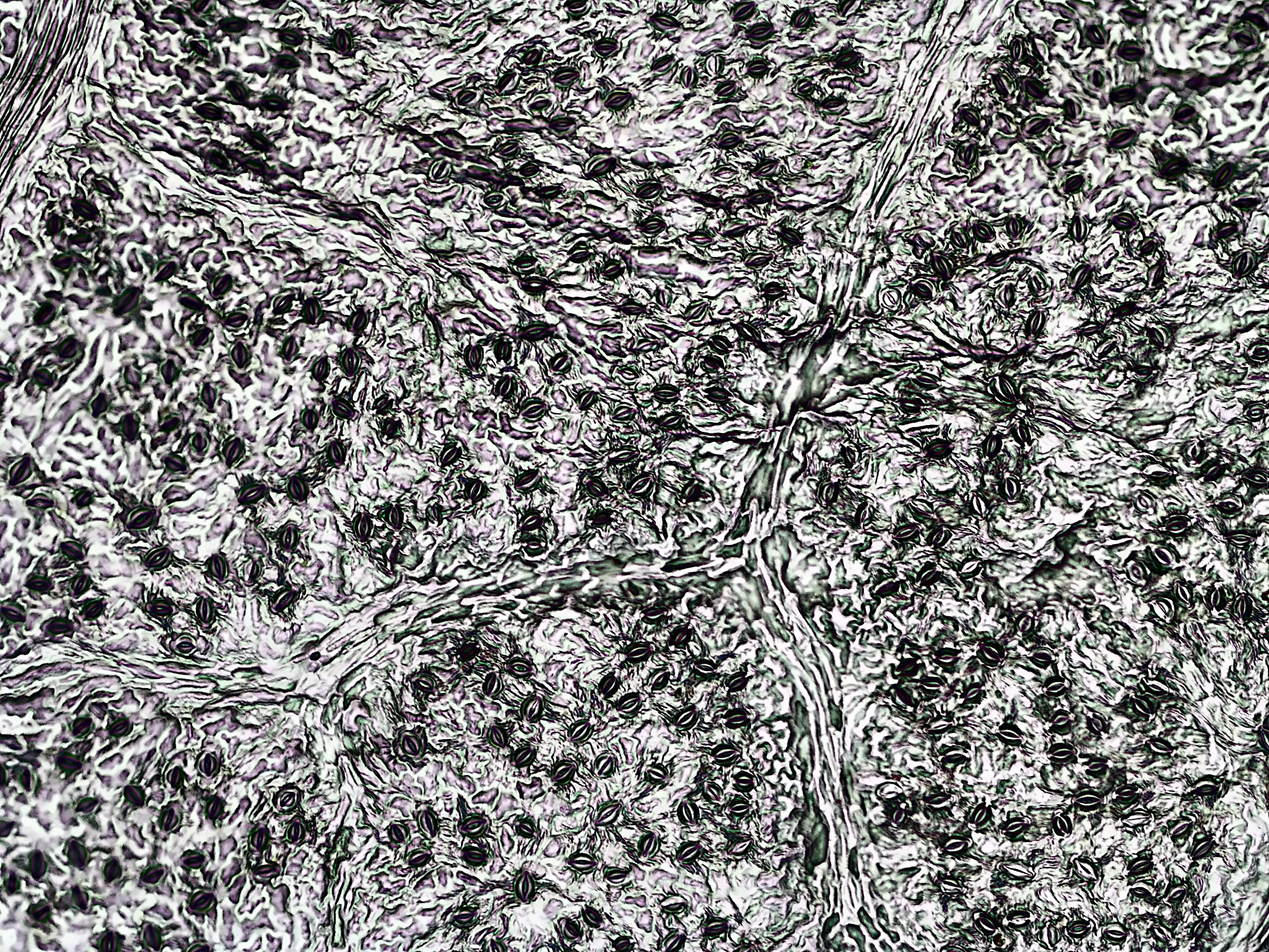stomata: (108, 285, 144, 317), (4, 453, 33, 485), (581, 152, 615, 179), (992, 371, 1020, 403), (123, 504, 158, 529), (249, 859, 284, 882), (25, 849, 50, 881), (1126, 693, 1154, 720), (196, 749, 221, 779), (139, 544, 171, 567), (274, 783, 301, 810), (512, 465, 540, 491), (1231, 589, 1252, 623), (999, 859, 1033, 880), (1161, 513, 1193, 535), (493, 70, 520, 96), (514, 871, 535, 904), (1141, 672, 1171, 695), (872, 574, 899, 599), (1231, 250, 1255, 278), (590, 37, 623, 57), (815, 475, 835, 508), (852, 500, 874, 530), (594, 801, 620, 826), (188, 891, 215, 915), (139, 923, 163, 950), (890, 684, 914, 711), (1129, 360, 1157, 383), (607, 443, 639, 463), (1141, 462, 1176, 480), (1204, 584, 1225, 614), (1119, 1, 1145, 25), (1093, 336, 1119, 360), (685, 294, 708, 321), (705, 385, 736, 405), (1046, 742, 1077, 762), (65, 840, 87, 868), (603, 88, 632, 109), (1134, 487, 1155, 516), (1040, 674, 1069, 695), (940, 834, 969, 855), (1108, 128, 1140, 147), (352, 513, 372, 543), (286, 474, 309, 500), (550, 348, 573, 374), (237, 482, 264, 504), (520, 321, 551, 340), (933, 252, 954, 280), (152, 260, 176, 284), (517, 276, 549, 294), (566, 719, 590, 743), (675, 706, 699, 730), (1243, 398, 1267, 422), (210, 273, 233, 298), (180, 848, 205, 871), (617, 695, 642, 718), (453, 905, 476, 930), (626, 474, 652, 496), (1047, 709, 1073, 731), (219, 15, 249, 34), (460, 814, 487, 835), (570, 850, 597, 871), (1127, 560, 1148, 587), (207, 553, 227, 581), (651, 10, 679, 30), (551, 65, 579, 85), (703, 778, 723, 806), (659, 932, 687, 952), (1108, 84, 1136, 104), (909, 280, 937, 300), (248, 825, 271, 849), (523, 398, 547, 421), (625, 640, 649, 663), (581, 904, 605, 927), (1024, 77, 1048, 100), (1024, 271, 1047, 295), (1150, 595, 1173, 619), (1072, 857, 1096, 880), (511, 253, 540, 272), (523, 694, 542, 723), (597, 671, 616, 700), (1025, 118, 1054, 137), (925, 437, 954, 456), (875, 782, 904, 801), (728, 834, 753, 856), (1045, 143, 1067, 168), (1069, 263, 1091, 288), (0, 600, 26, 621), (753, 159, 779, 180), (594, 753, 615, 779), (1248, 337, 1269, 363), (1167, 816, 1193, 837), (895, 398, 927, 415), (639, 602, 666, 622), (712, 743, 739, 763), (1174, 580, 1194, 607), (1081, 757, 1111, 775), (199, 381, 218, 409), (670, 623, 689, 651), (725, 707, 749, 729), (72, 882, 89, 913), (745, 23, 776, 40), (141, 863, 166, 884), (739, 319, 760, 344), (709, 332, 734, 353), (584, 477, 609, 498), (462, 844, 487, 865), (637, 832, 658, 857), (703, 916, 728, 937), (929, 525, 950, 550), (303, 296, 321, 325), (548, 115, 577, 133), (147, 597, 173, 617), (456, 89, 482, 109), (60, 540, 87, 559), (172, 634, 199, 653), (639, 217, 666, 236), (1013, 418, 1032, 445), (889, 524, 919, 541), (246, 130, 269, 152), (69, 716, 92, 738), (123, 785, 146, 807), (1007, 38, 1030, 60), (968, 803, 991, 825), (94, 176, 118, 197), (463, 344, 484, 368), (1144, 736, 1172, 754), (1100, 922, 1128, 940), (659, 409, 684, 429), (506, 656, 531, 676), (553, 759, 573, 784), (1152, 923, 1177, 943), (1159, 160, 1190, 176), (835, 49, 861, 68), (650, 54, 676, 73), (414, 673, 440, 692), (913, 368, 939, 387), (983, 432, 1002, 458), (680, 798, 697, 827), (1223, 528, 1252, 545), (261, 94, 288, 112), (221, 437, 239, 464), (56, 754, 83, 772), (711, 78, 738, 96), (745, 250, 772, 268), (931, 646, 958, 664), (915, 564, 937, 586), (73, 197, 96, 218), (520, 43, 543, 64), (400, 733, 421, 756), (408, 846, 431, 867), (990, 75, 1011, 98), (948, 224, 969, 247), (1025, 309, 1046, 332), (980, 643, 1003, 664), (976, 912, 999, 933), (440, 442, 460, 466), (205, 796, 225, 820), (720, 222, 750, 238), (487, 724, 507, 748), (1212, 163, 1232, 187), (880, 286, 900, 310), (196, 102, 224, 119), (231, 341, 248, 369), (422, 808, 439, 836), (935, 877, 963, 894), (1151, 325, 1170, 350), (909, 497, 934, 516), (1128, 855, 1153, 874), (341, 349, 359, 375), (27, 492, 53, 510), (729, 0, 755, 18), (493, 140, 519, 158), (972, 223, 998, 241), (940, 746, 969, 762), (1121, 810, 1150, 826), (273, 588, 295, 609), (285, 821, 306, 843), (430, 160, 452, 181), (647, 668, 668, 690), (734, 770, 756, 791), (679, 843, 701, 864), (1050, 813, 1071, 835), (960, 555, 980, 578), (661, 896, 688, 913), (1070, 216, 1087, 243), (1004, 476, 1021, 503), (645, 763, 669, 782), (728, 798, 752, 817), (1005, 216, 1024, 240), (998, 725, 1022, 744), (276, 29, 306, 44), (179, 293, 204, 311), (683, 479, 701, 504), (1118, 42, 1143, 60), (843, 439, 861, 464), (1240, 470, 1268, 486), (1072, 793, 1104, 807), (494, 336, 511, 362), (653, 385, 679, 402), (1042, 920, 1059, 946), (1155, 546, 1176, 567), (69, 573, 91, 593), (601, 258, 623, 278), (207, 149, 230, 168), (466, 478, 485, 501), (160, 806, 179, 829), (482, 673, 501, 696), (1081, 318, 1104, 337), (922, 788, 951, 803), (228, 78, 246, 102), (348, 308, 366, 332), (30, 901, 54, 919), (791, 6, 809, 30), (761, 280, 785, 298), (960, 140, 978, 164), (1228, 194, 1264, 206), (104, 857, 121, 882), (699, 353, 724, 370), (604, 866, 629, 883), (1212, 220, 1237, 237), (33, 304, 54, 324), (273, 293, 293, 314), (25, 576, 53, 591), (77, 795, 98, 815), (565, 0, 593, 15), (634, 182, 662, 197), (192, 327, 211, 349), (166, 766, 185, 788), (99, 930, 118, 952), (515, 746, 534, 768), (725, 673, 747, 692), (1067, 919, 1089, 938), (388, 504, 404, 530), (1191, 916, 1207, 942), (331, 399, 354, 417), (717, 129, 740, 147), (482, 189, 505, 207), (516, 819, 539, 837), (1002, 816, 1025, 834), (590, 509, 614, 526), (1000, 283, 1017, 307), (1114, 782, 1138, 799), (929, 716, 953, 733), (1193, 778, 1217, 795), (534, 183, 563, 197), (279, 522, 294, 549), (197, 597, 212, 624), (1184, 436, 1199, 463), (1030, 648, 1057, 663), (336, 29, 352, 54), (161, 359, 177, 384), (109, 717, 129, 737), (821, 95, 846, 111), (634, 337, 659, 353), (1111, 211, 1136, 227), (1194, 838, 1214, 858), (519, 509, 540, 528), (1064, 174, 1085, 193), (123, 366, 141, 388), (20, 769, 38, 791), (692, 659, 714, 677), (122, 416, 139, 439), (496, 375, 513, 398), (1174, 104, 1197, 121), (713, 166, 739, 181), (313, 357, 329, 381), (48, 617, 72, 633), (750, 188, 774, 204), (971, 492, 987, 516), (705, 53, 724, 73), (91, 395, 109, 416), (165, 455, 186, 473), (836, 0, 863, 14), (747, 59, 768, 77), (781, 226, 802, 244), (458, 640, 479, 658), (1237, 31, 1258, 49), (960, 107, 981, 125), (1145, 263, 1163, 284), (688, 230, 713, 245), (1217, 496, 1242, 511), (896, 657, 918, 674), (1130, 882, 1152, 899), (891, 804, 907, 827), (57, 338, 76, 357), (1062, 98, 1081, 117), (84, 600, 104, 618), (578, 389, 596, 409), (328, 441, 345, 462), (655, 288, 672, 309), (989, 250, 1010, 267), (923, 675, 944, 692), (1166, 886, 1187, 903), (226, 311, 248, 327), (426, 503, 442, 525), (1088, 712, 1104, 734), (274, 55, 299, 69), (1090, 21, 1104, 46), (621, 300, 644, 315), (1007, 911, 1030, 926), (34, 367, 53, 385), (380, 418, 398, 437), (303, 408, 319, 429), (681, 66, 697, 87), (570, 247, 591, 263), (283, 335, 296, 360), (698, 192, 721, 206), (47, 213, 63, 233), (375, 393, 391, 413), (519, 162, 539, 178), (192, 432, 207, 453), (613, 406, 634, 421), (527, 94, 549, 108), (160, 416, 179, 432), (4, 873, 20, 892), (963, 684, 982, 700), (619, 366, 639, 381), (1117, 301, 1137, 316), (183, 942, 212, 952), (75, 489, 92, 506), (1138, 237, 1156, 253), (242, 159, 264, 172), (0, 818, 15, 837), (391, 825, 406, 844), (613, 936, 632, 951), (247, 559, 261, 579), (54, 254, 72, 269), (1206, 461, 1219, 481), (523, 536, 540, 551), (0, 365, 12, 386), (563, 919, 577, 937), (487, 938, 505, 952), (796, 78, 812, 93), (70, 233, 90, 244), (1091, 69, 1103, 85)
